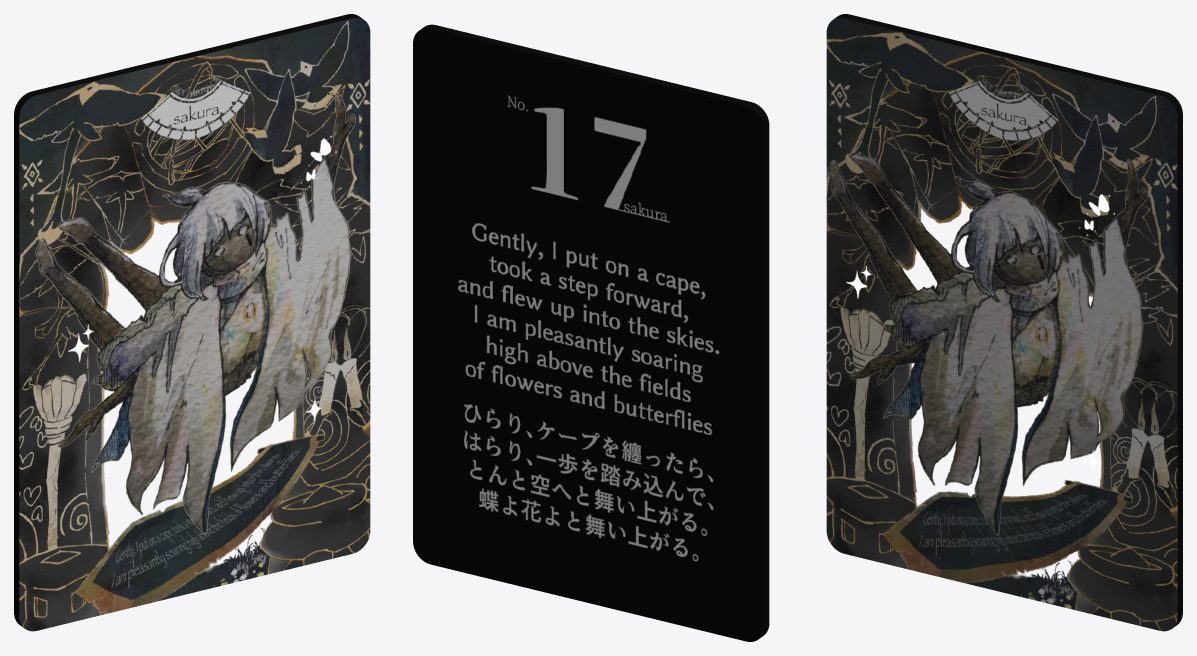
Rendered from 17_sakura.glb.
3 renders of one model, left to right at view 1: azimuth 30°, elevation 25°; view 2: azimuth 150°, elevation 25°; view 3: azimuth 330°, elevation 25°, orthographic.
Parts seen in each view (by area): view 1: きらきら; view 2: きらきら; view 3: きらきら.
Boxes of the visible parts, x1,y1,x2,y2 form: きらきら: (14,14,370,631); きらきら: (413,24,769,641); きらきら: (826,14,1182,631).
Bounding box in the file's own units: 0.236 × 0.344 × 0.023.
Materials: 5 (4 with a texture image).
